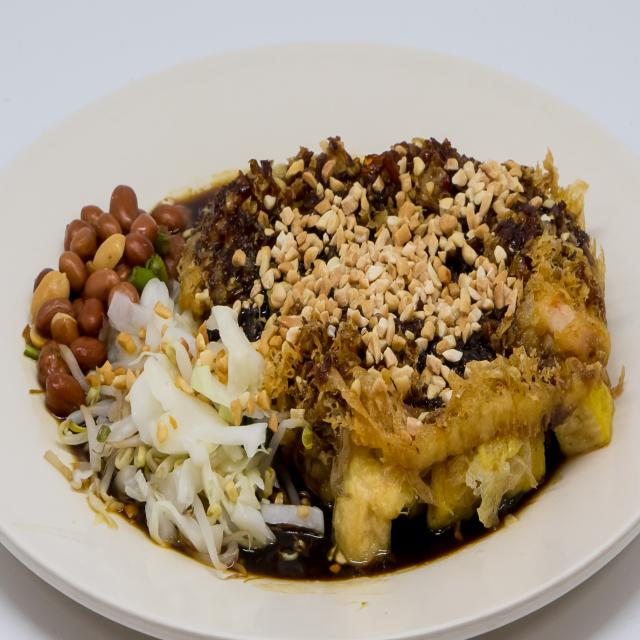Tahu-Telur: (36, 87, 616, 589)
